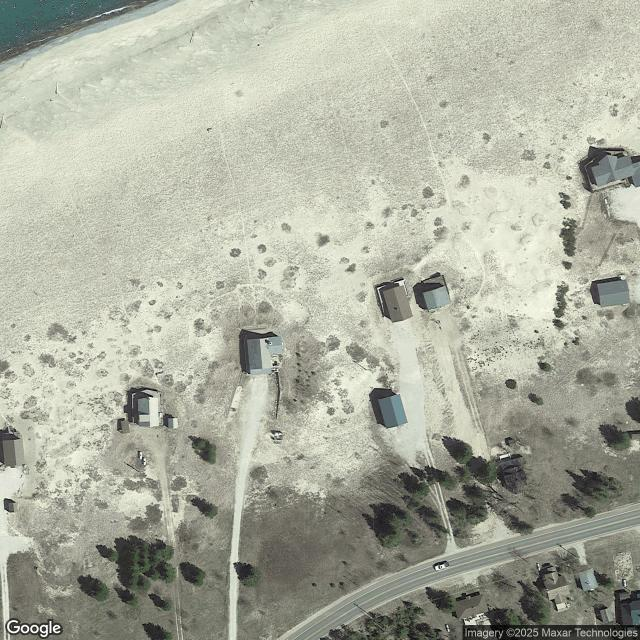Propane: (445, 624, 451, 633), (536, 562, 541, 572), (623, 579, 628, 588), (139, 451, 142, 460), (143, 458, 146, 466)
